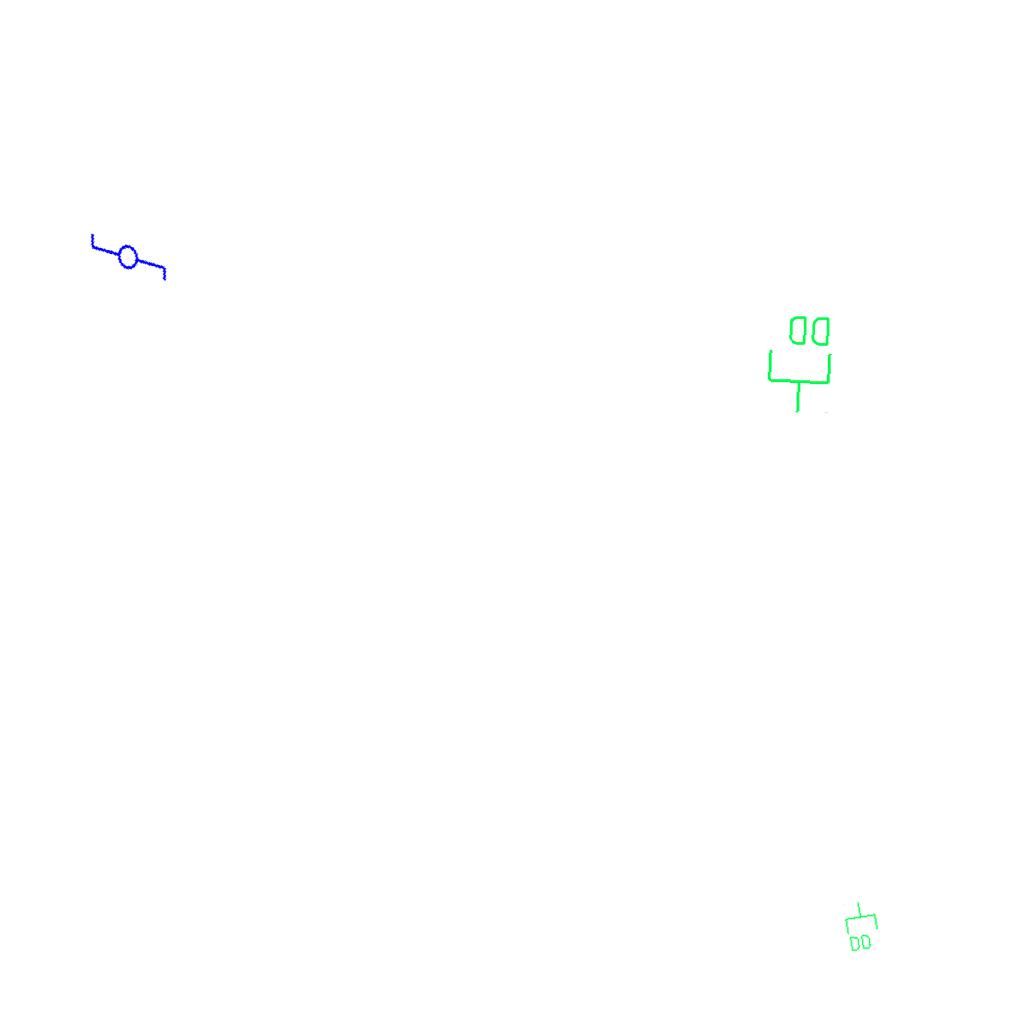Datenanschluss_zweifach: (763, 310, 838, 417), (840, 898, 883, 954)
Wechselschalter: (82, 205, 174, 301)
